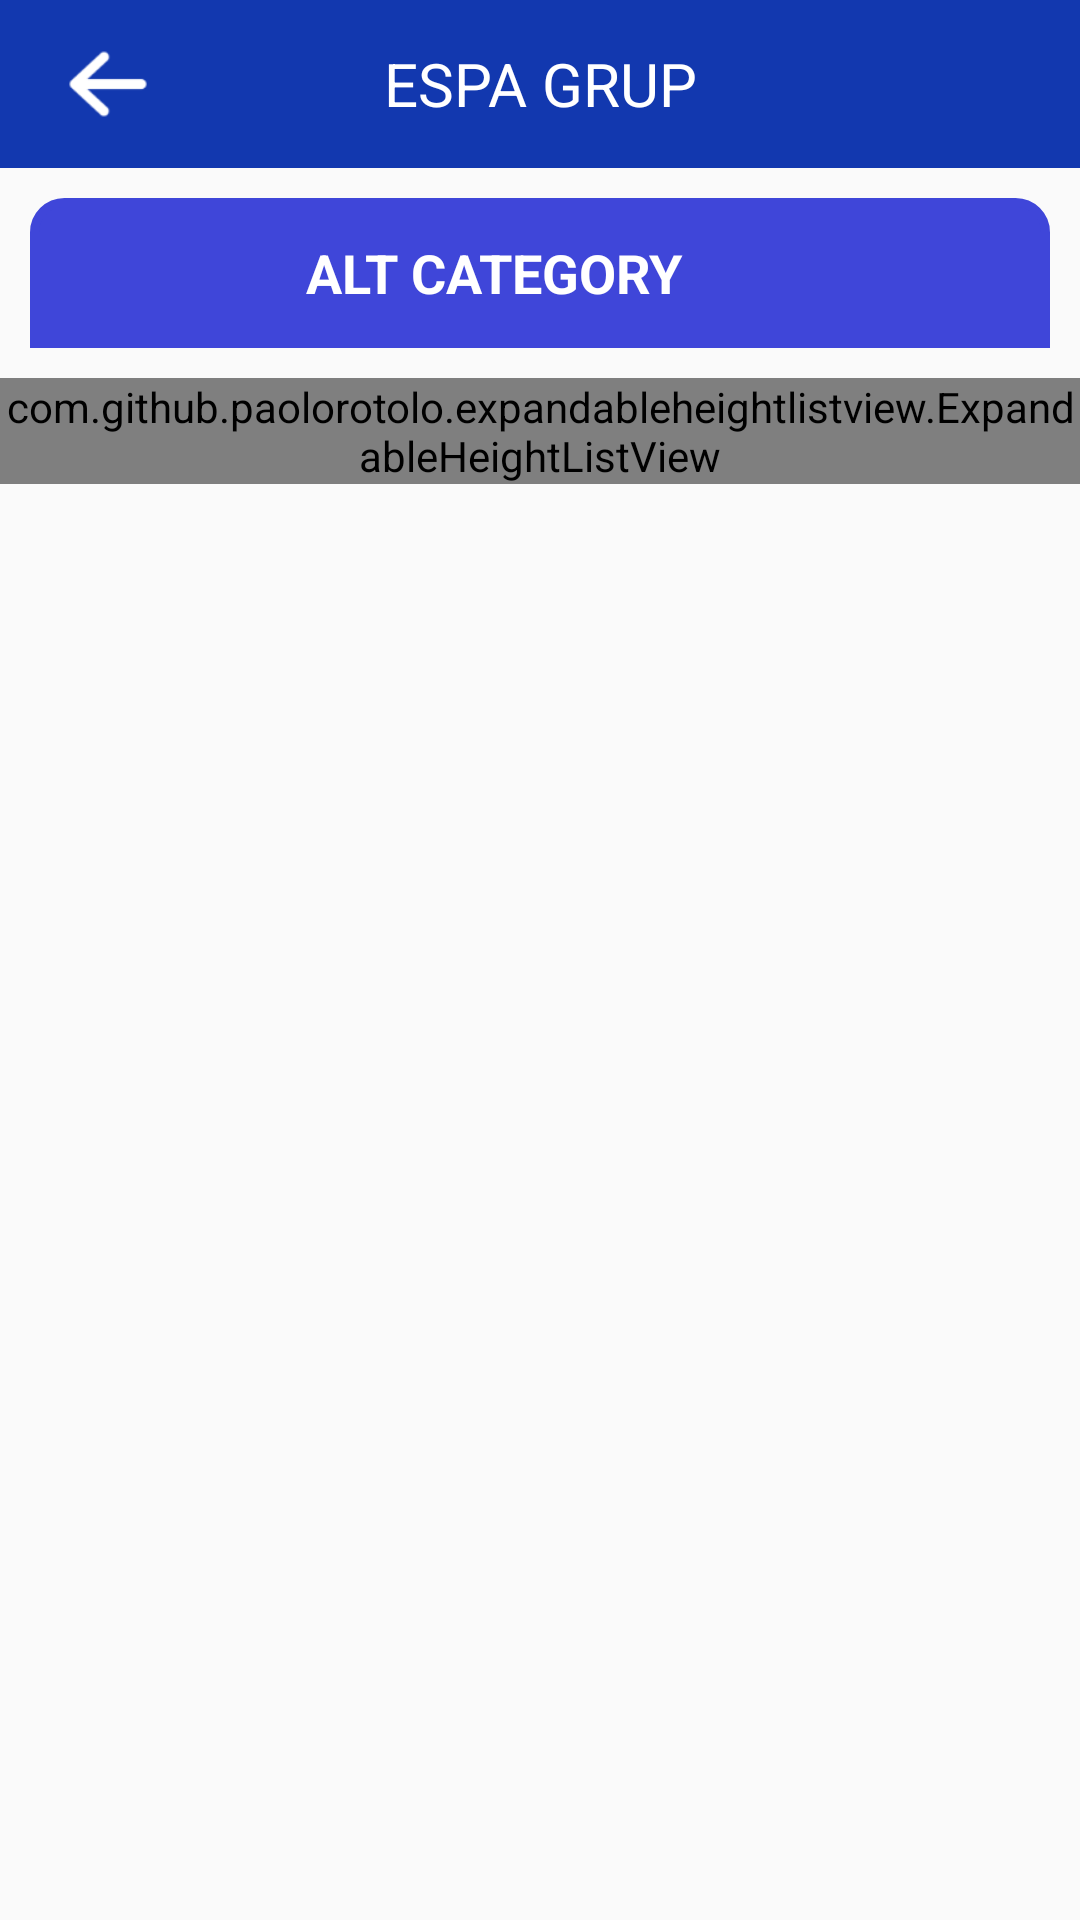

Icon bounding boxes for this 1080w x 1920h phone screenshot, format {"left": x1, "top": y1, "right": x2, "bottom": y2}:
back: {"left": 69, "top": 51, "right": 147, "bottom": 117}
